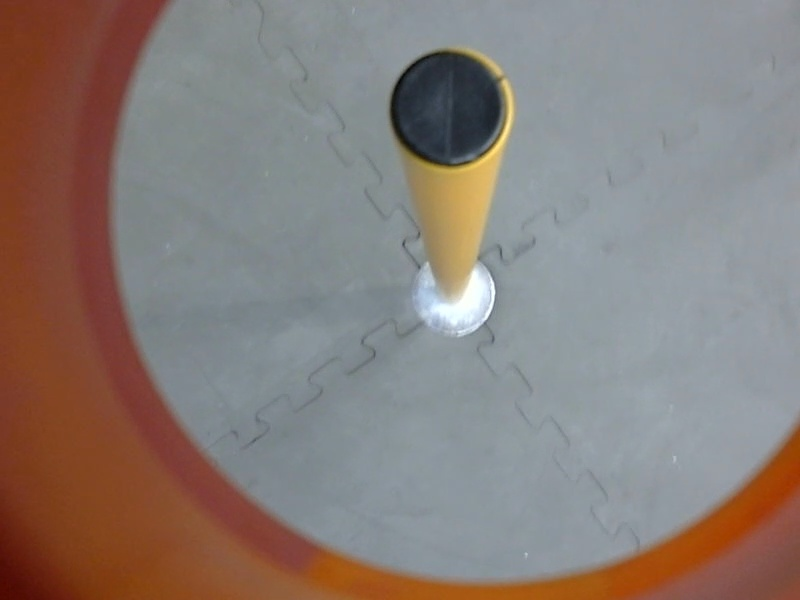tip: (381, 37, 516, 176)
